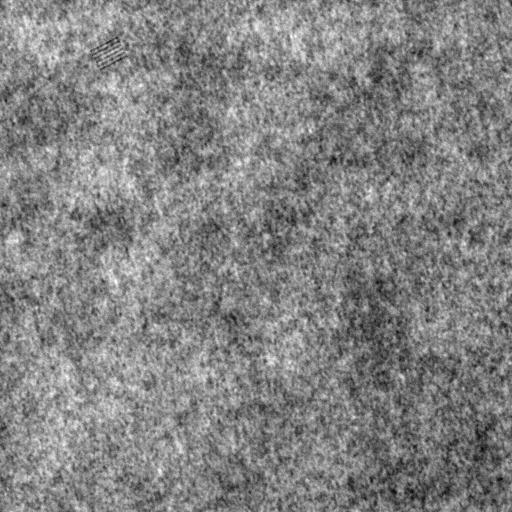DefectTypeB: (92, 38, 131, 72)
